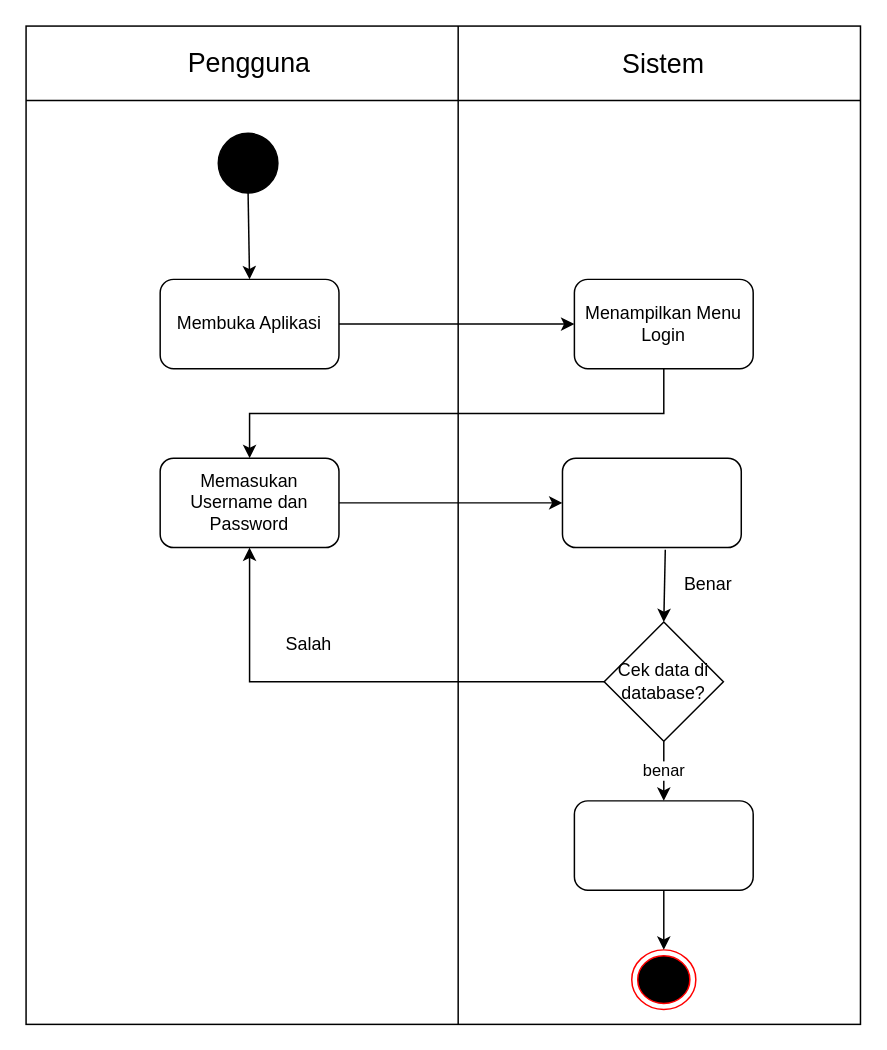
This 887x1050 diagram has some shape labels left out. Each missing label, with the box of its shape:
Masuk ke Halaman Pengguna: (573, 799, 753, 890)
Validasi Username dan Password: (561, 457, 741, 548)
